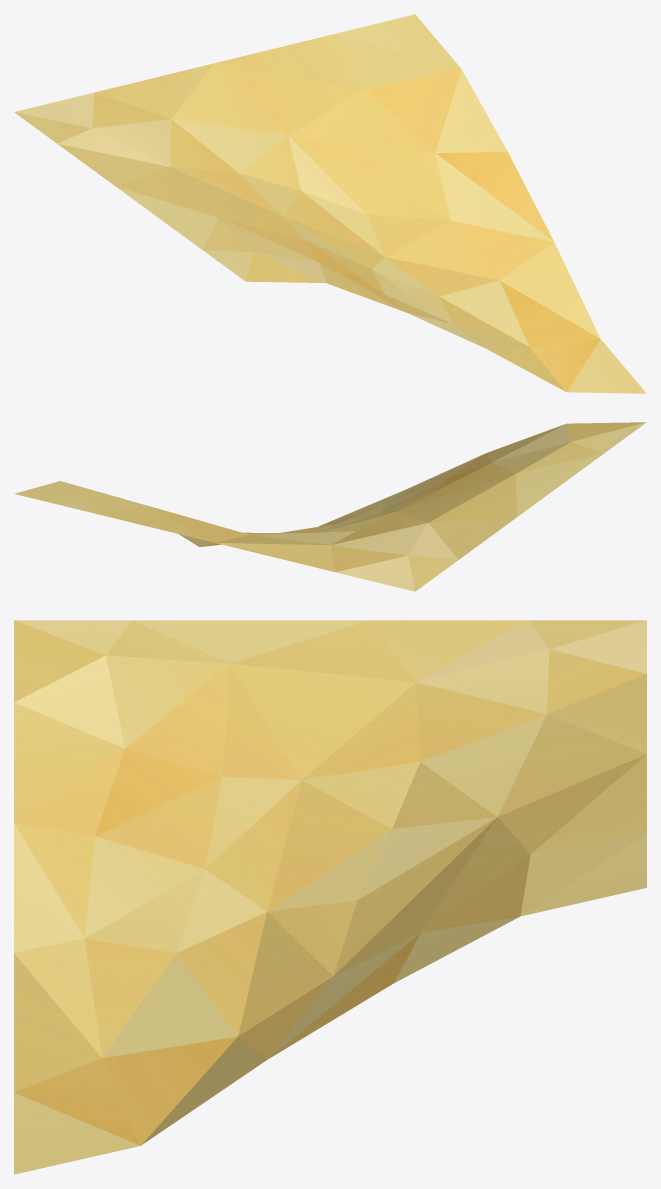
File: GL-Terrain-part-08-LOD2.fbx
The picture shows the model from 3 angles, top to bottom: view 1: azimuth 30°, elevation 25°; view 2: azimuth 150°, elevation 25°; view 3: azimuth 270°, elevation 25°; orthographic projection. The views are drawn at different scales.
Parts seen in each view (by area): view 1: GL_Terrain_part_08; view 2: GL_Terrain_part_08; view 3: GL_Terrain_part_08.
Boxes of the visible parts, x1=… form: GL_Terrain_part_08: x1=14, y1=14, x2=646, y2=393; GL_Terrain_part_08: x1=14, y1=422, x2=646, y2=591; GL_Terrain_part_08: x1=14, y1=620, x2=646, y2=1174.
Size of the model in its own units: 6 by 3 by 6.
